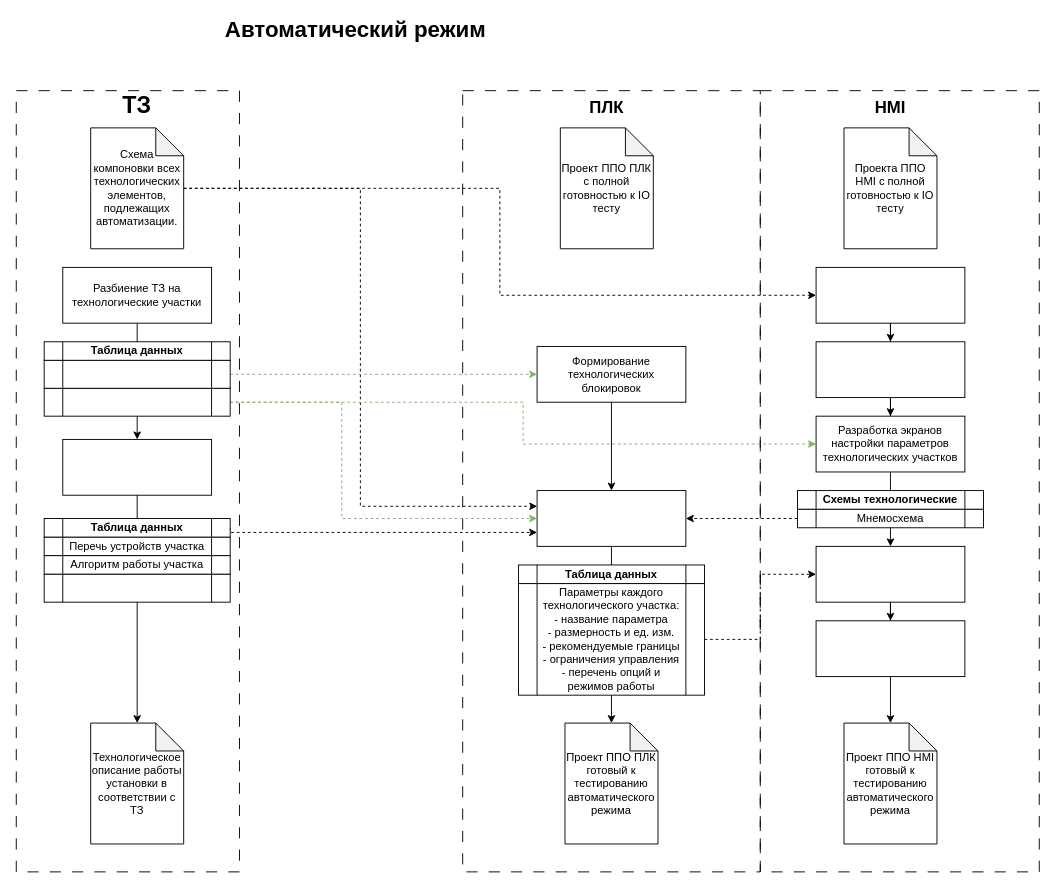
Image size: 1056x888. Some labels were removed from this diagram. Here are the shapes that lost their labels. From the top down, the centre of each, then its label:
At point (890, 294): "Разработка мнемосхемы технологического процесса".
At point (136, 373): "Технологические блокировки".
At point (890, 369): "Привязка данных о состоянии соответствующих устройств к мнемосхеме".
At point (136, 401): "Перечень технологических участков".
At point (137, 466): "Описание алгоритма работы каждого технологического участка".
At point (611, 518): "Разработка функциональных блоков управления каждым технологическим участком".
At point (136, 587): "Перечень обязательных параметров".
At point (890, 573): "Вывод на экран всех необходимых данных для параметрирования работы всех участков".
At point (890, 648): "Вывод на экран общего управления процессом".
